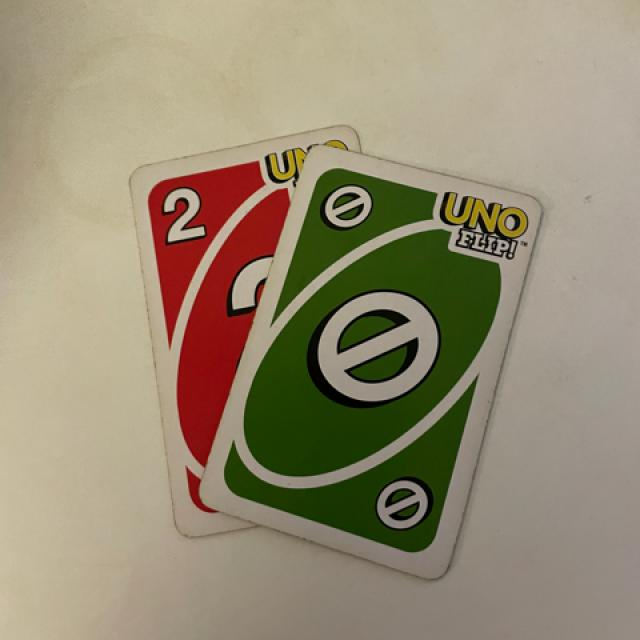lgreenskip-20: (312, 165, 385, 255)
lred-2: (146, 173, 234, 254)
